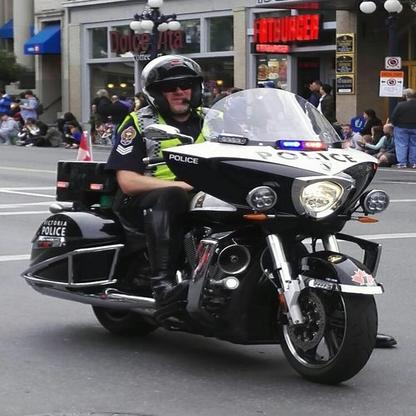target: (21, 54, 395, 384)
